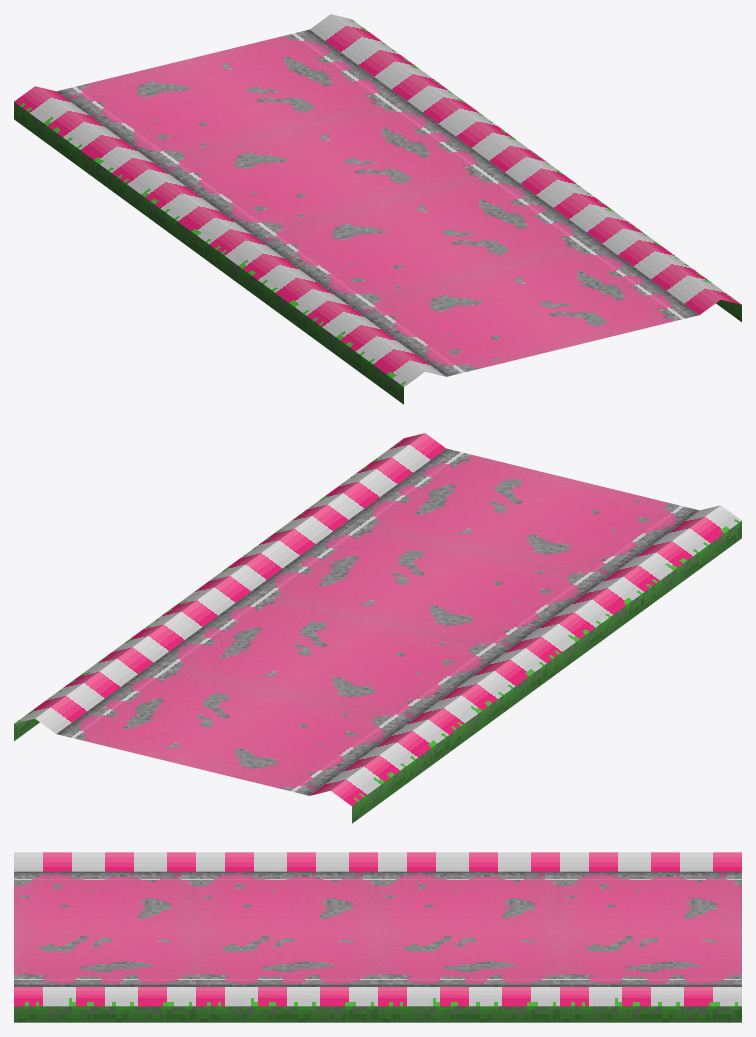
The model's file is GlueStraight.glb.
The picture shows the model from 3 angles, top to bottom: view 1: azimuth 30°, elevation 25°; view 2: azimuth 150°, elevation 25°; view 3: azimuth 270°, elevation 25°; orthographic projection. The views are drawn at different scales.
Parts seen in each view (by area): view 1: GlueStraight; view 2: GlueStraight; view 3: GlueStraight.
Boxes of the visible parts, x1,y1,x2,y2 form: GlueStraight: (14,14,741,404); GlueStraight: (14,433,741,823); GlueStraight: (14,852,741,1022).
Size of the model in its own units: 0.5 by 0.0396 by 1.
1 material, 1 textured.
